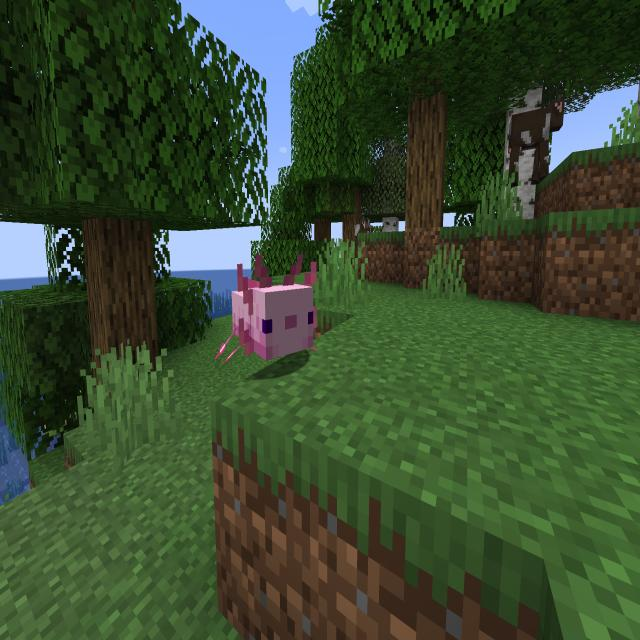cow: (502, 90, 568, 190), (350, 214, 374, 250)
